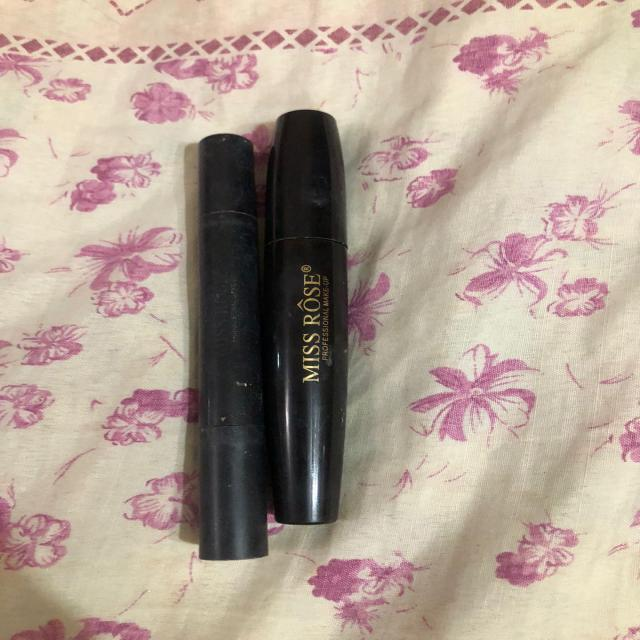eye liner: (193, 132, 267, 576)
mascara: (278, 110, 356, 526)
